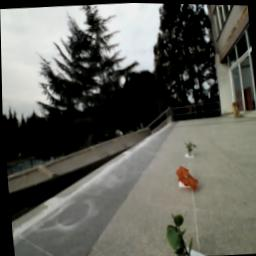herb: (163, 209, 194, 256), (182, 138, 197, 154)
wild: (175, 163, 200, 192)
